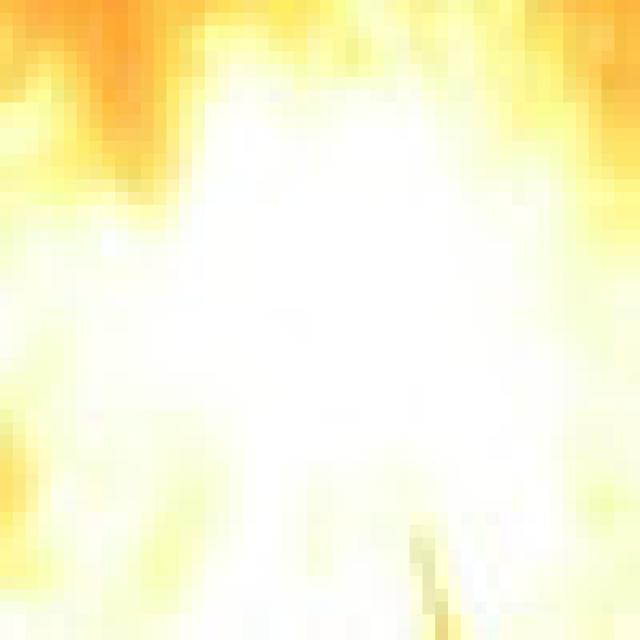fire: (0, 7, 630, 640)
